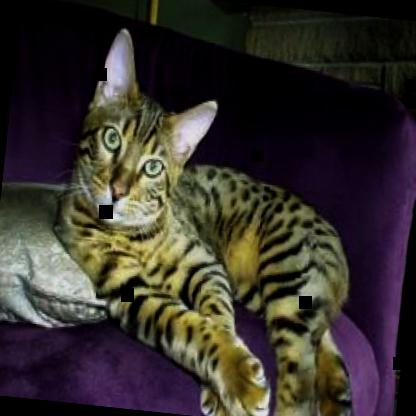cat: (37, 24, 393, 415)
